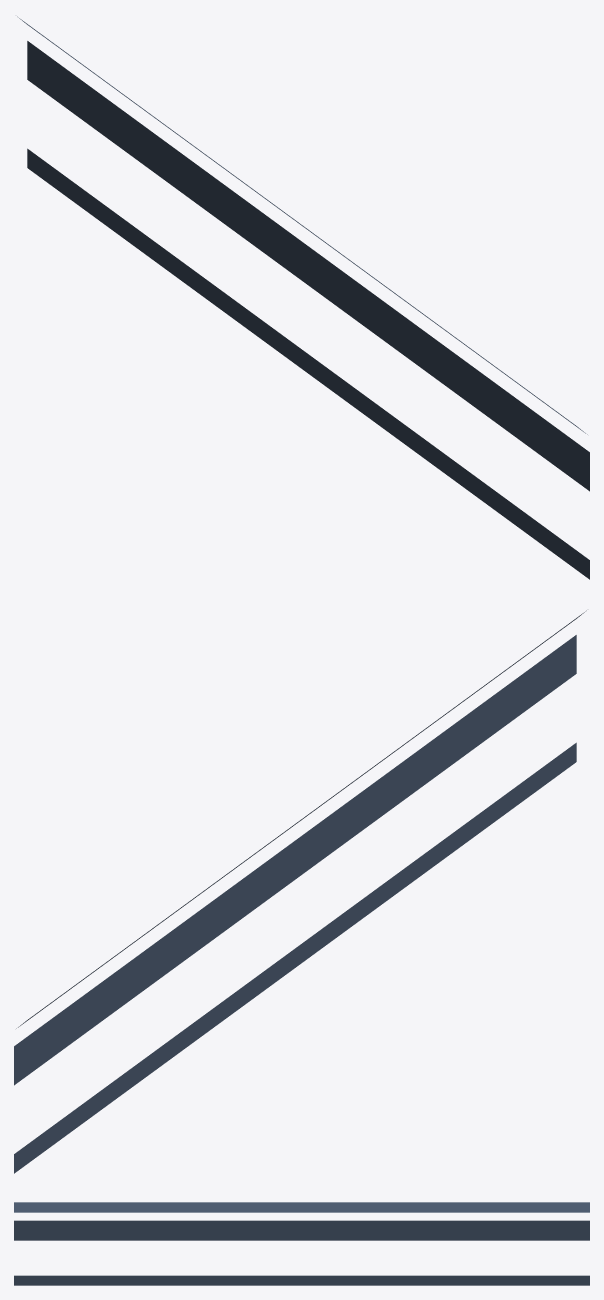
The model's file is tdr_c_waterfall.obj.
3 renders of one model, top to bottom at view 1: azimuth 30°, elevation 25°; view 2: azimuth 150°, elevation 25°; view 3: azimuth 270°, elevation 25°, orthographic. The views are drawn at different scales.
Visible parts, largest first — view 1: Default_TRLE_Wall.001_Cube.009; view 2: Default_TRLE_Wall.001_Cube.009; view 3: Default_TRLE_Wall.001_Cube.009.
Part boxes in pixels (x1,y1,x2,y2): Default_TRLE_Wall.001_Cube.009: (17, 16, 589, 579); Default_TRLE_Wall.001_Cube.009: (14, 610, 586, 1173); Default_TRLE_Wall.001_Cube.009: (14, 1202, 589, 1285).
Bounding box in the file's own units: 90.51 × 1024 × 6656.
1 material, 1 textured.
